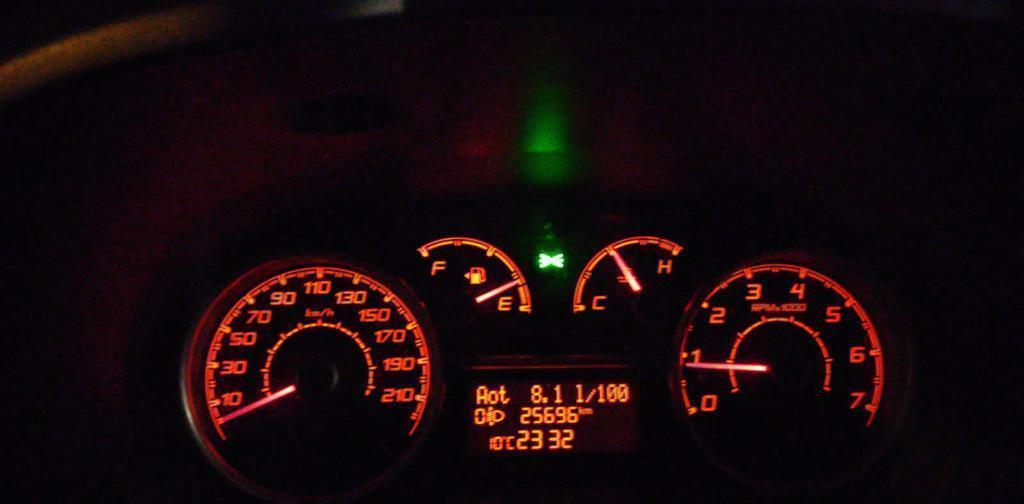,: (541, 396, 548, 403)
0: (606, 383, 618, 402), (617, 383, 629, 402), (473, 407, 486, 424), (493, 435, 503, 451)
1: (596, 383, 606, 403), (553, 383, 562, 403), (488, 437, 492, 450)
2: (515, 429, 529, 449), (560, 428, 574, 448), (519, 406, 531, 424)
3: (529, 429, 543, 449), (547, 429, 560, 449)
5: (531, 406, 543, 424)
6: (566, 406, 579, 422), (543, 406, 555, 423)
8: (530, 384, 543, 402)
9: (555, 406, 566, 423)
X: (498, 384, 510, 404), (476, 385, 488, 404), (575, 383, 585, 402), (487, 390, 499, 404), (585, 388, 596, 403), (505, 435, 515, 450)
odometer: (461, 373, 644, 457)
